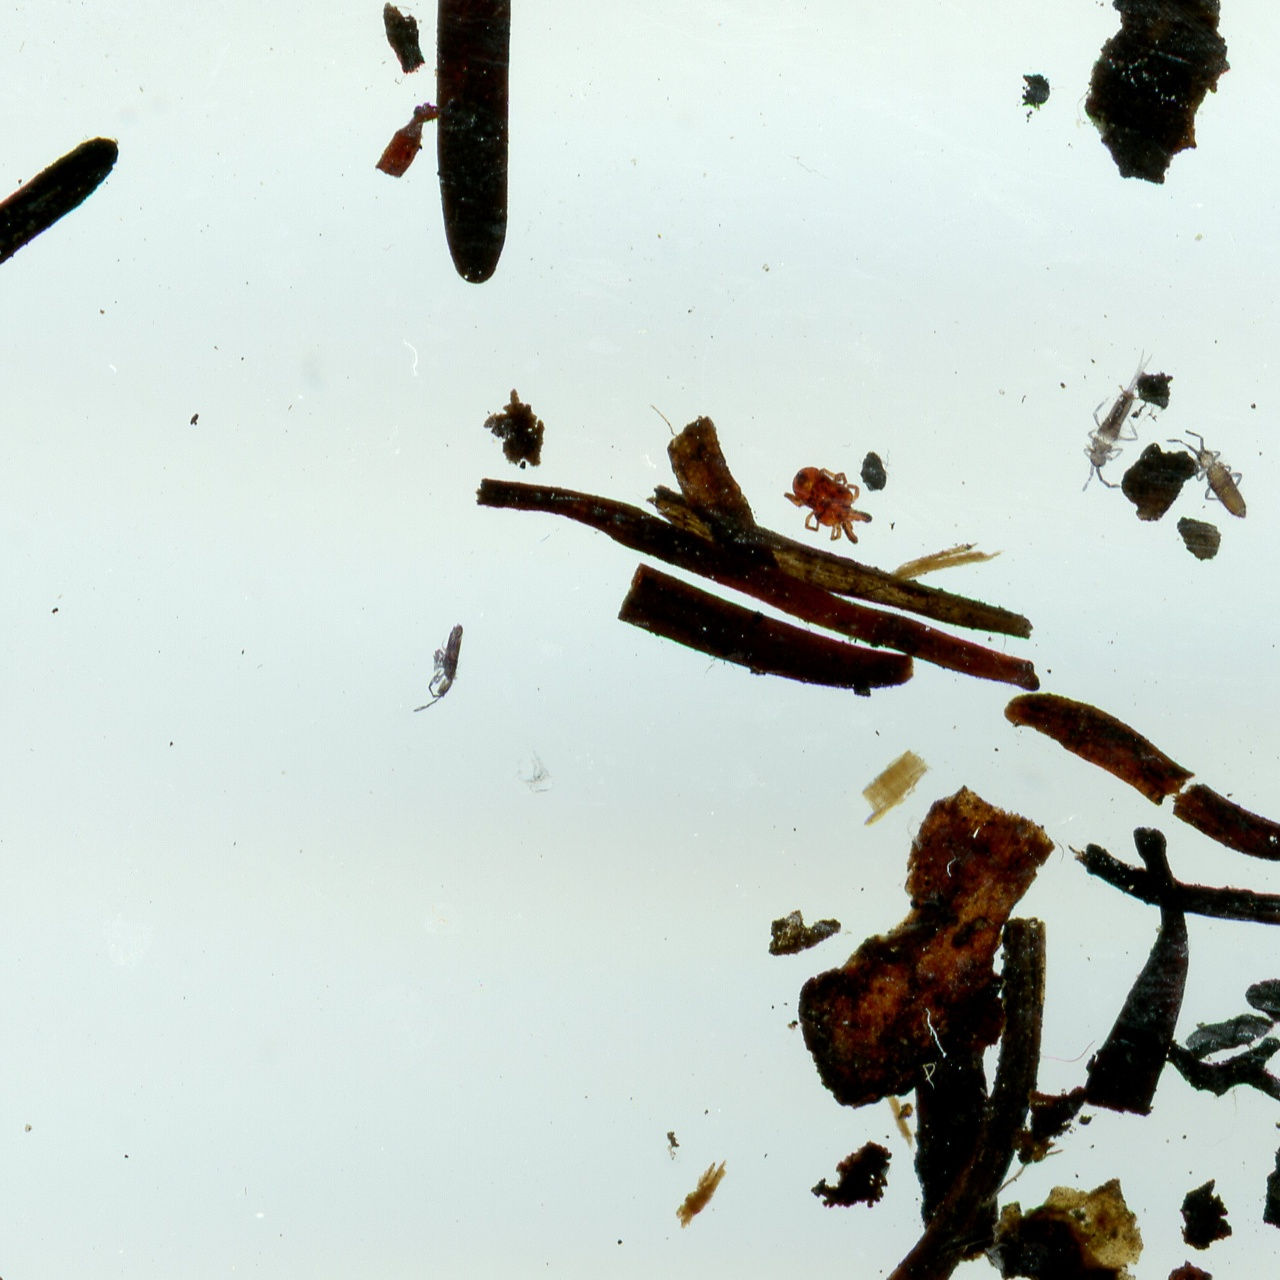arthropod: (1067, 331, 1170, 505), (1157, 407, 1265, 544), (782, 456, 879, 550), (403, 612, 470, 720)
